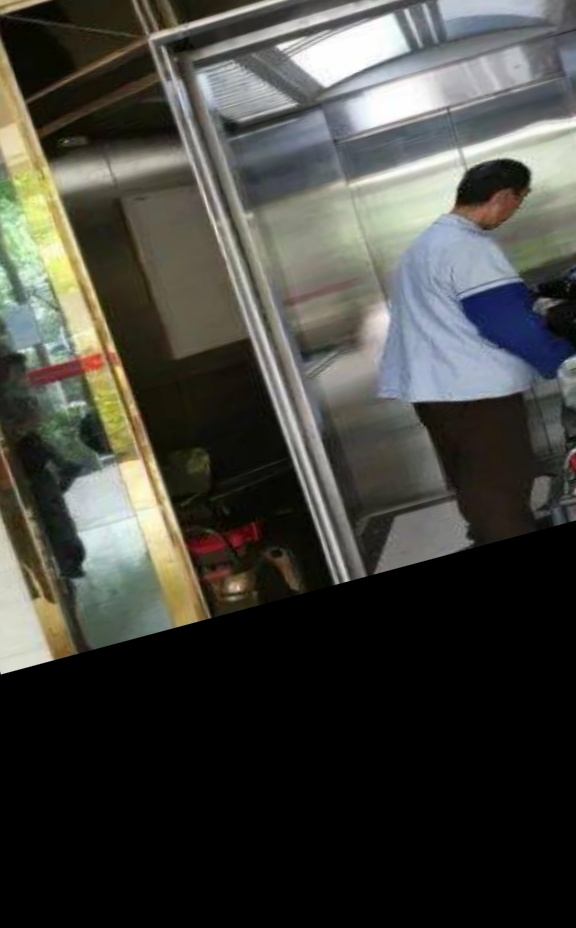person: (384, 151, 561, 548)
